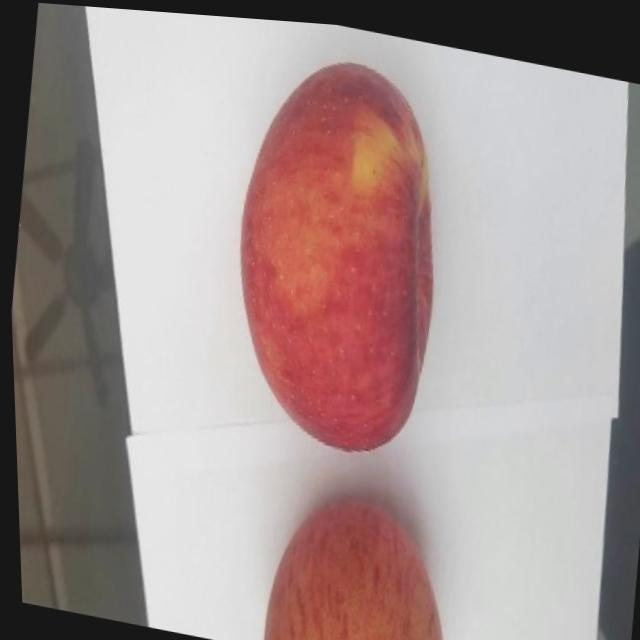Apple: (202, 31, 464, 465), (251, 470, 462, 640)
